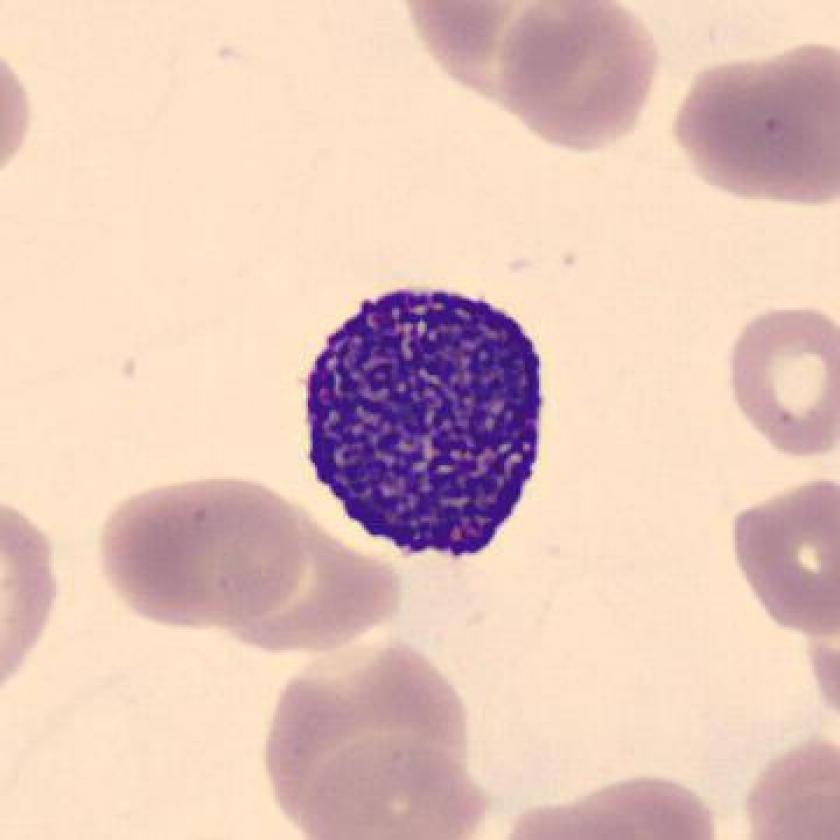basophil: (293, 279, 554, 580)
